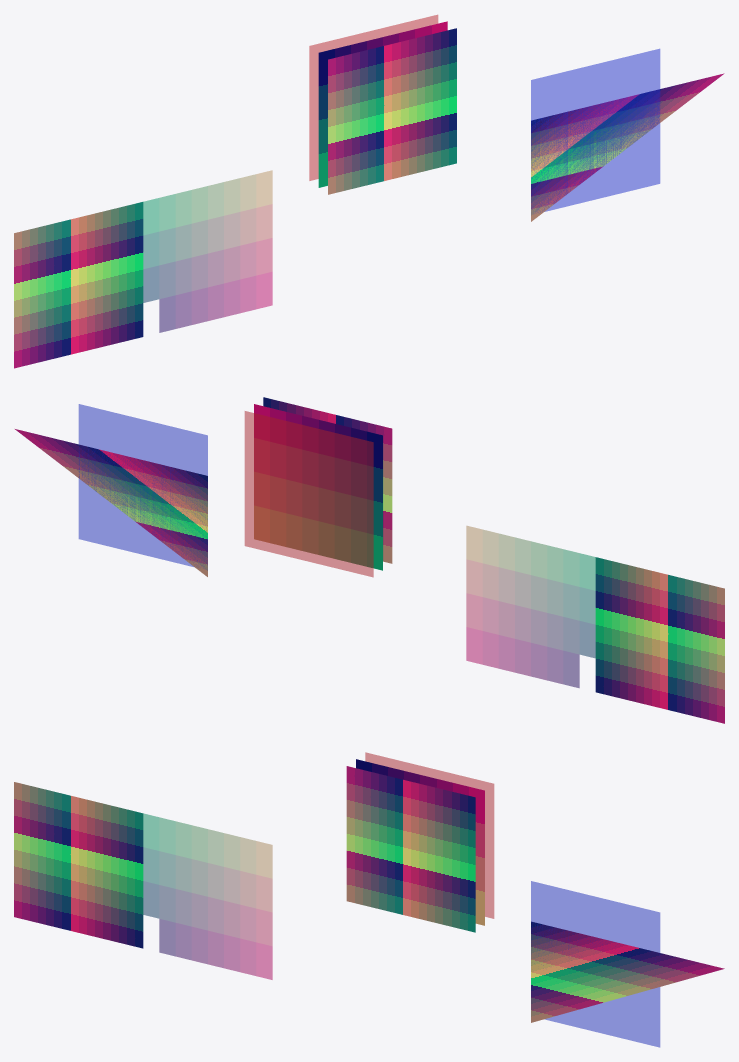
The model's file is parts.glb.
The picture shows the model from 3 angles, top to bottom: view 1: azimuth 30°, elevation 25°; view 2: azimuth 150°, elevation 25°; view 3: azimuth 330°, elevation 25°; orthographic projection.
Parts seen in each view (by area): view 1: left_wing, body, right_wing; view 2: left_wing, body, right_wing; view 3: left_wing, body, right_wing.
Part boxes in pixels (x1,y1,x2,y2): left_wing: (14,170,272,368); body: (309,14,456,194); right_wing: (531,48,724,221); left_wing: (466,526,724,723); body: (244,397,392,577); right_wing: (15,404,207,576); left_wing: (14,782,272,979); body: (346,752,494,932); right_wing: (531,881,724,1047).
Bounding box in the file's own units: 5.5 × 1.65 × 0.375.
4 materials, 4 textured.
